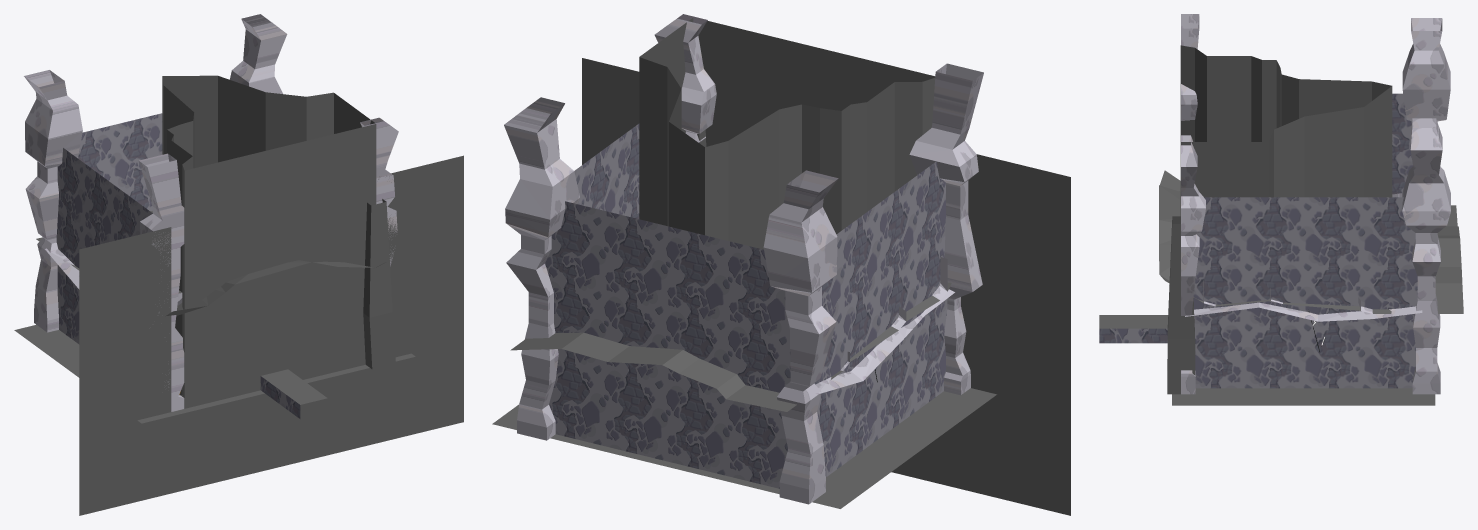
The model's file is jin_05_bake.dae.
The picture shows the model from 3 angles, left to right: view 1: azimuth 30°, elevation 25°; view 2: azimuth 150°, elevation 25°; view 3: azimuth 270°, elevation 25°; orthographic projection. The views are drawn at different scales.
Visible parts, largest first — view 1: S_msk, a_gawa01, S_hasi, S_kabe, a_hashira01, a_yuka, a_hashira02, a_ana, pPlane452, pCube56, S_hari; view 2: S_kabe, a_gawa01, S_hasi, S_msk, a_yuka, a_hashira02, S_hari; view 3: S_kabe, a_gawa01, S_hasi, a_hashira02, a_yuka, a_hashira01, S_hari, pCube56, pPlane452, a_ana.
Part boxes in pixels (left/top/right/bottom): S_msk: left=79, top=155, right=463, bottom=515; a_gawa01: left=162, top=75, right=376, bottom=408; S_hasi: left=24, top=14, right=398, bottom=411; S_kabe: left=56, top=113, right=162, bottom=344; a_hashira01: left=363, top=199, right=395, bottom=369; a_yuka: left=14, top=324, right=415, bottom=423; a_hashira02: left=36, top=211, right=385, bottom=316; a_ana: left=261, top=370, right=327, bottom=419; pPlane452: left=282, top=369, right=327, bottom=404; pCube56: left=260, top=376, right=300, bottom=418; S_hari: left=45, top=248, right=182, bottom=305; S_kabe: left=545, top=123, right=947, bottom=488; a_gawa01: left=639, top=18, right=935, bottom=249; S_hasi: left=504, top=14, right=983, bottom=504; S_msk: left=582, top=58, right=1070, bottom=515; a_yuka: left=492, top=388, right=996, bottom=508; a_hashira02: left=510, top=282, right=951, bottom=411; S_hari: left=815, top=257, right=954, bottom=394; S_kabe: left=1193, top=93, right=1417, bottom=388; a_gawa01: left=1180, top=45, right=1392, bottom=223; S_hasi: left=1181, top=14, right=1450, bottom=394; a_hashira02: left=1159, top=170, right=1463, bottom=313; a_yuka: left=1172, top=388, right=1435, bottom=405; a_hashira01: left=1167, top=216, right=1195, bottom=394; S_hari: left=1185, top=193, right=1422, bottom=321; pCube56: left=1099, top=328, right=1167, bottom=343; pPlane452: left=1099, top=315, right=1168, bottom=328; a_ana: left=1099, top=315, right=1167, bottom=328.
Bounding box in the file's own units: 56.03 × 46.93 × 44.59.
